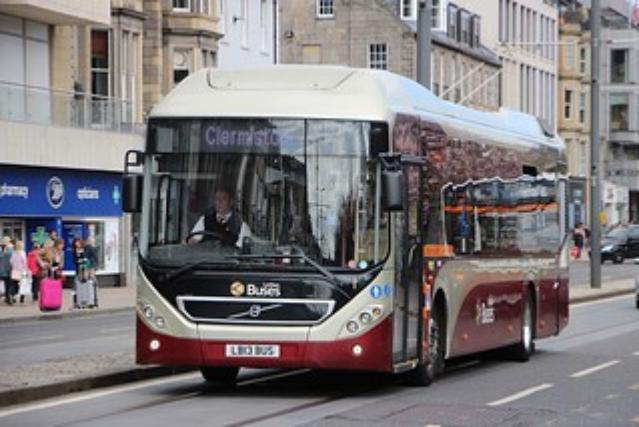bus: (136, 64, 572, 389)
